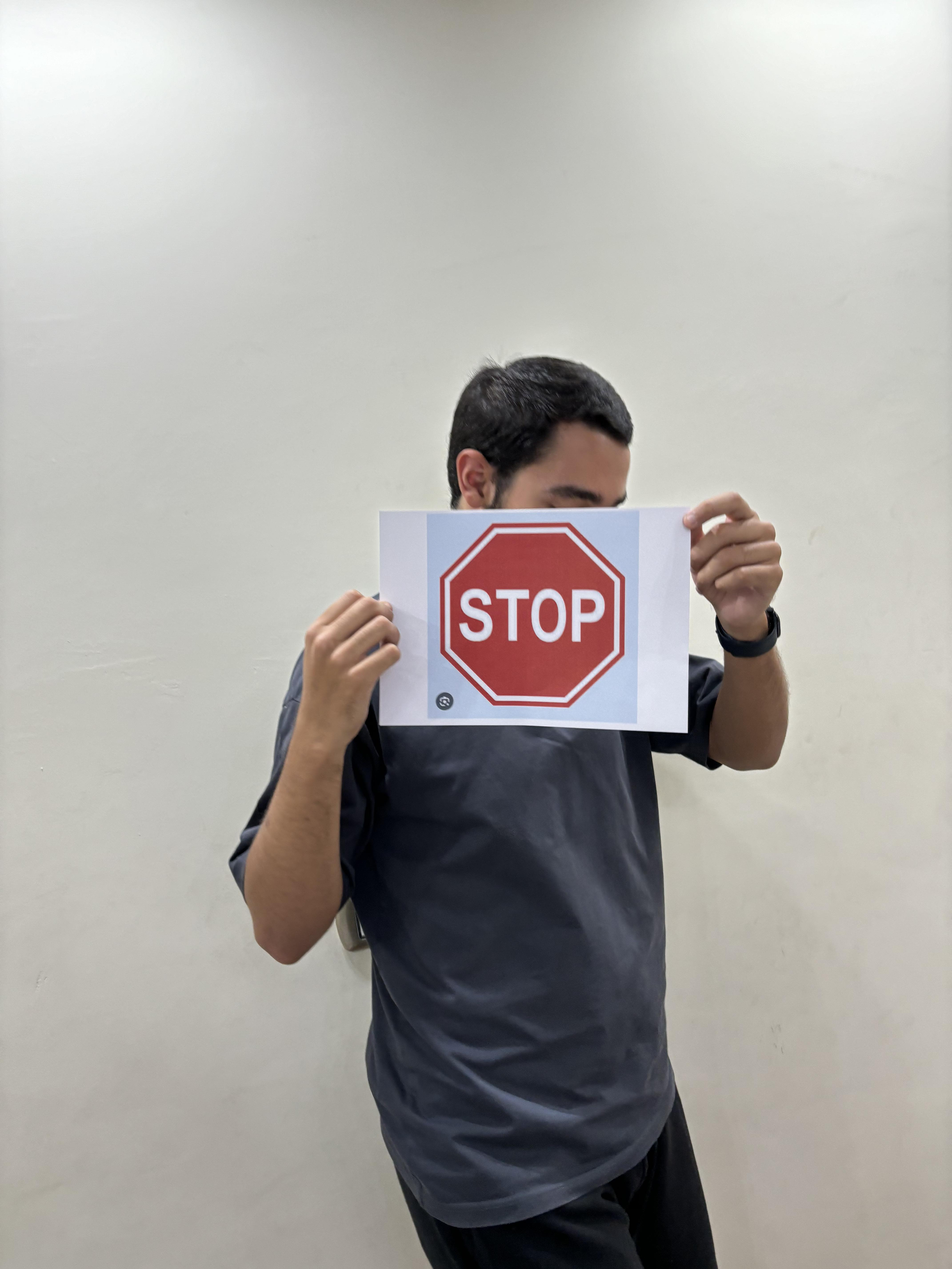Stop: (431, 518, 636, 717)
